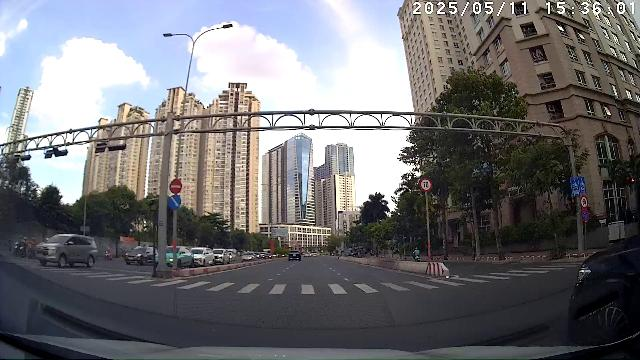102-cam-di-nguoc-chieu: (170, 179, 182, 193)
127-toc-do-toi-da-60: (580, 196, 588, 208)
127-toc-do-toi-da-70: (420, 178, 432, 192)
130-cam-dung-va-do-xe: (582, 209, 590, 222)
302a-huong-phai-di-vong-chuong-ngai-vat-1: (169, 195, 181, 209)
